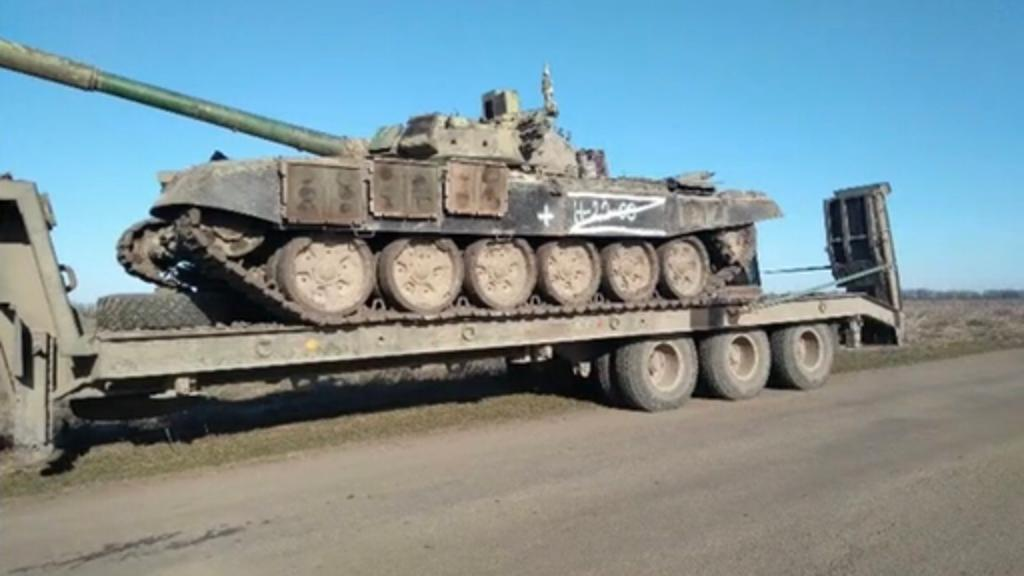TANK: (0, 22, 780, 332)
